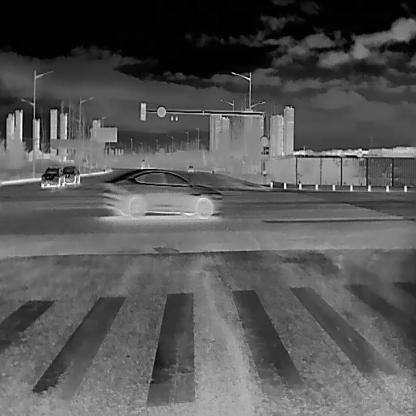car: (101, 168, 221, 220), (40, 165, 61, 188), (64, 165, 78, 184), (186, 164, 194, 172)
